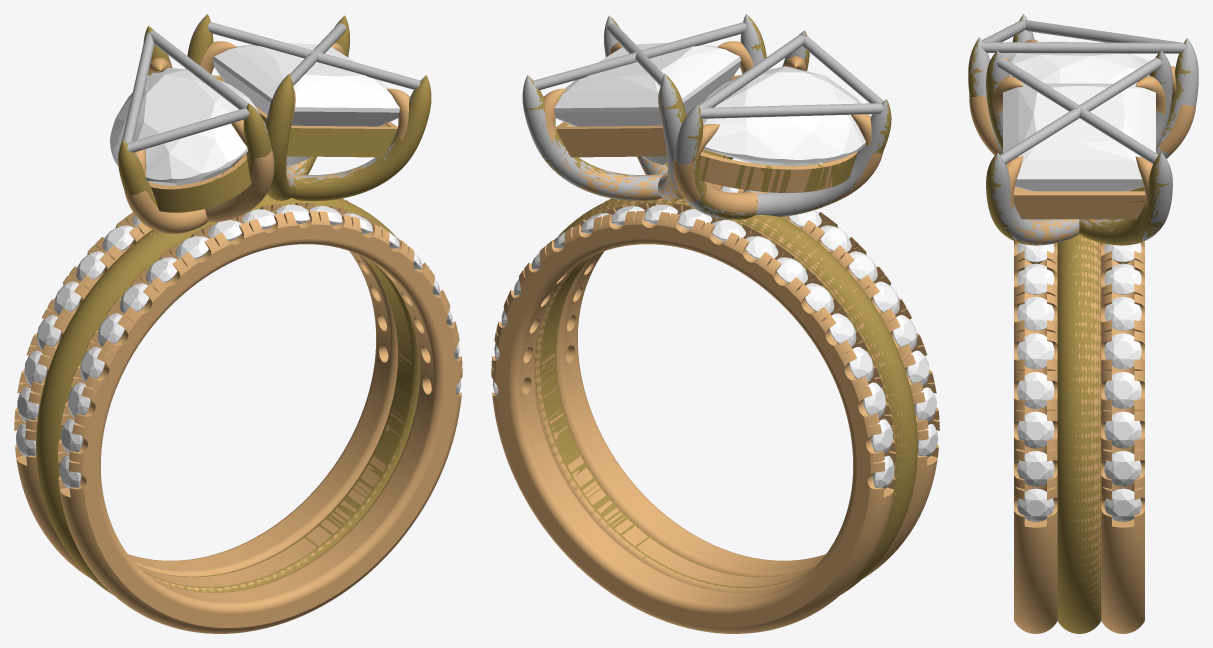
The picture shows the model from 3 angles, left to right: view 1: azimuth 30°, elevation 25°; view 2: azimuth 150°, elevation 25°; view 3: azimuth 270°, elevation 25°; orthographic projection.
Visible parts, largest first — view 1: 11LR-53dm, Diamond_Pear, Diamond_Princess; view 2: 11LR-53dm, Diamond_Pear, Diamond_Princess; view 3: 11LR-53dm, Diamond_Princess, Diamond_Pear, Diamond_Round_15, Diamond_Round_16, Diamond_Round_21, Diamond_Round_22, Diamond_Round_14, Diamond_Round_23, Diamond_Round_17, Diamond_Round_20, Diamond_Round_24 (+7 smaller).
Part boxes in pixels (x1,y1,x2,y2): 11LR-53dm: (14, 14, 462, 633); Diamond_Pear: (110, 68, 257, 185); Diamond_Princess: (213, 43, 399, 165); 11LR-53dm: (491, 14, 939, 633); Diamond_Pear: (702, 66, 870, 165); Diamond_Princess: (554, 43, 740, 165); 11LR-53dm: (968, 14, 1198, 633); Diamond_Princess: (1003, 83, 1155, 191); Diamond_Pear: (990, 41, 1149, 83); Diamond_Round_15: (1104, 372, 1141, 408); Diamond_Round_16: (1104, 411, 1141, 448); Diamond_Round_21: (1017, 411, 1054, 448); Diamond_Round_22: (1017, 372, 1054, 408); Diamond_Round_14: (1104, 333, 1141, 369); Diamond_Round_23: (1017, 333, 1054, 369); Diamond_Round_17: (1104, 451, 1141, 486); Diamond_Round_20: (1017, 451, 1054, 486); Diamond_Round_24: (1017, 296, 1054, 330).
Size of the model in its own units: 2.33 by 3.16 by 1.17.
